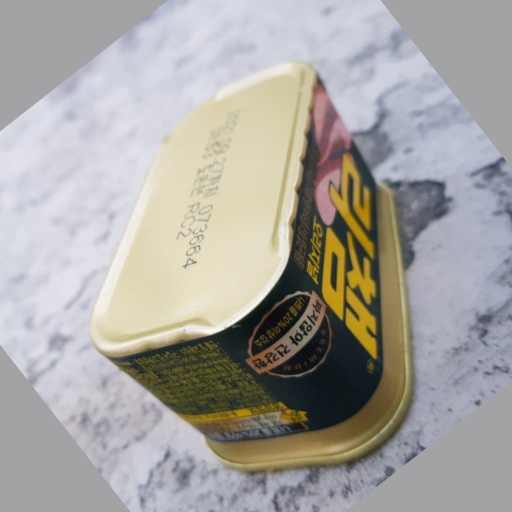Metal_2: (90, 64, 419, 473)
